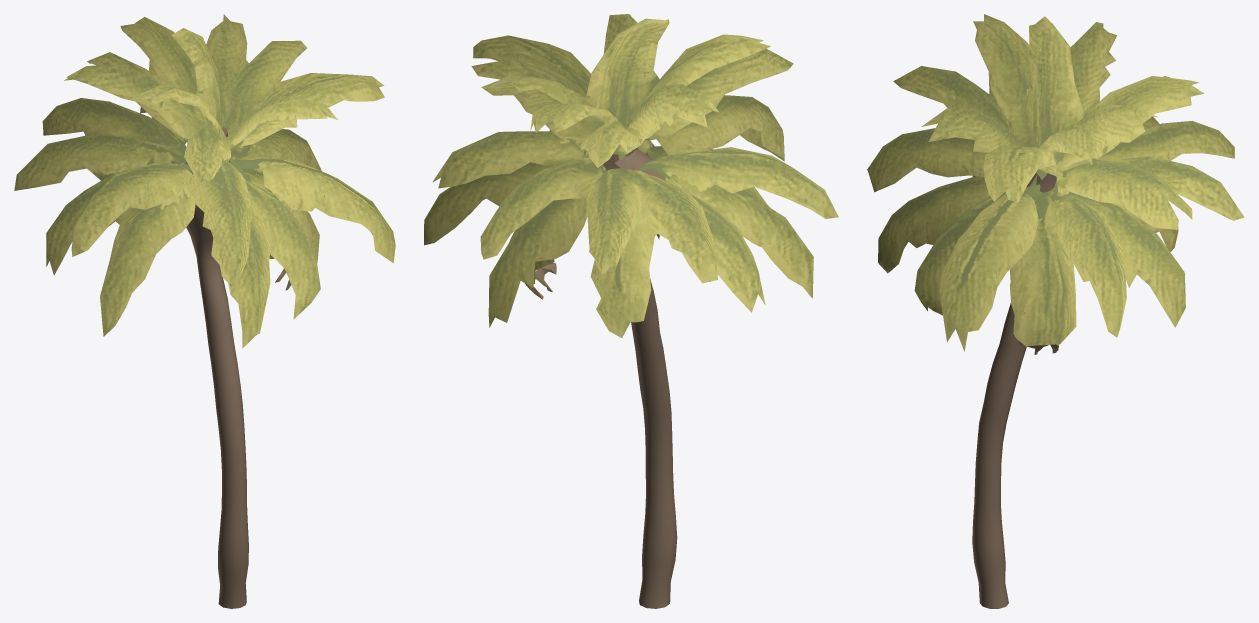
The model's file is palm_a.glb.
3 views of the same model, side by side, from view 1: azimuth 30°, elevation 25°; view 2: azimuth 150°, elevation 25°; view 3: azimuth 270°, elevation 25° (orthographic). The views are drawn at different scales.
Visible parts, largest first — view 1: body; view 2: body; view 3: body.
Part boxes in pixels (<box>): body: <box>14,14,395,608</box>; body: <box>424,14,838,608</box>; body: <box>867,14,1244,608</box>.
Bounding box in the file's own units: 5.14 × 8.5 × 5.1.
2 materials, 2 textured.
